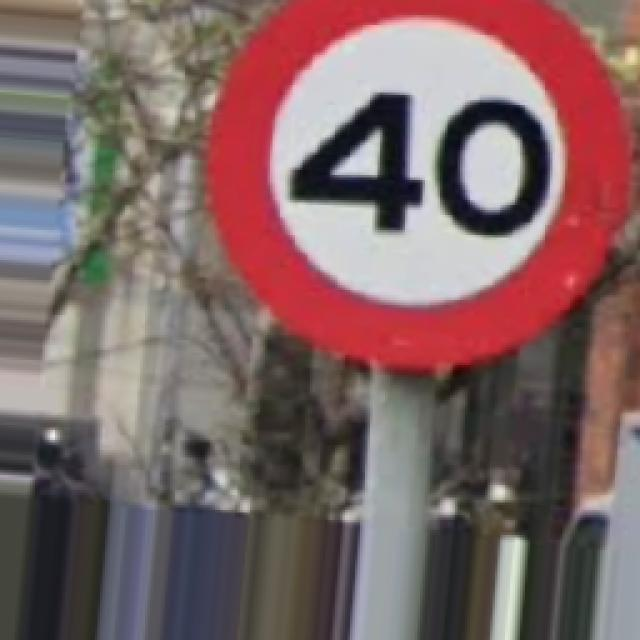Speed Limit -40-: (210, 0, 628, 368)
